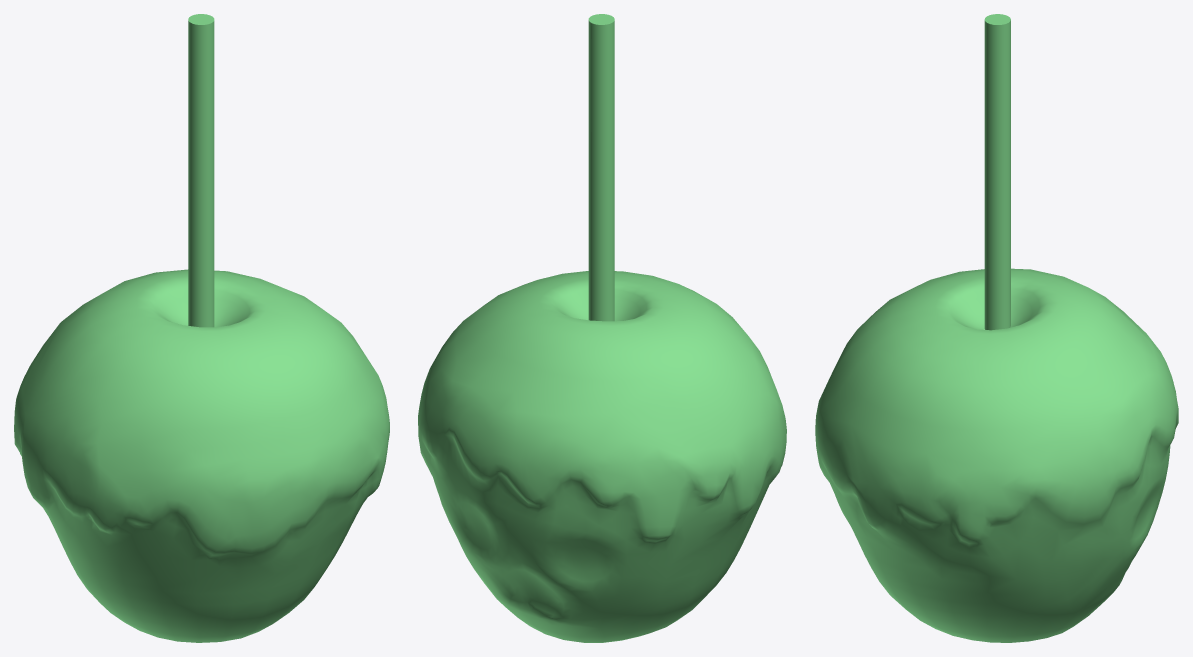
File: sm_apple.fbx
3 views of the same model, side by side, from view 1: azimuth 30°, elevation 25°; view 2: azimuth 150°, elevation 25°; view 3: azimuth 270°, elevation 25° (orthographic).
Visible parts, largest first — view 1: sm_apple; view 2: sm_apple; view 3: sm_apple.
Part boxes in pixels (x1,y1,x2,y2): sm_apple: (14, 14, 389, 642); sm_apple: (418, 14, 786, 642); sm_apple: (815, 14, 1178, 642).
Size of the model in its own units: 77.91 by 137 by 75.1.
